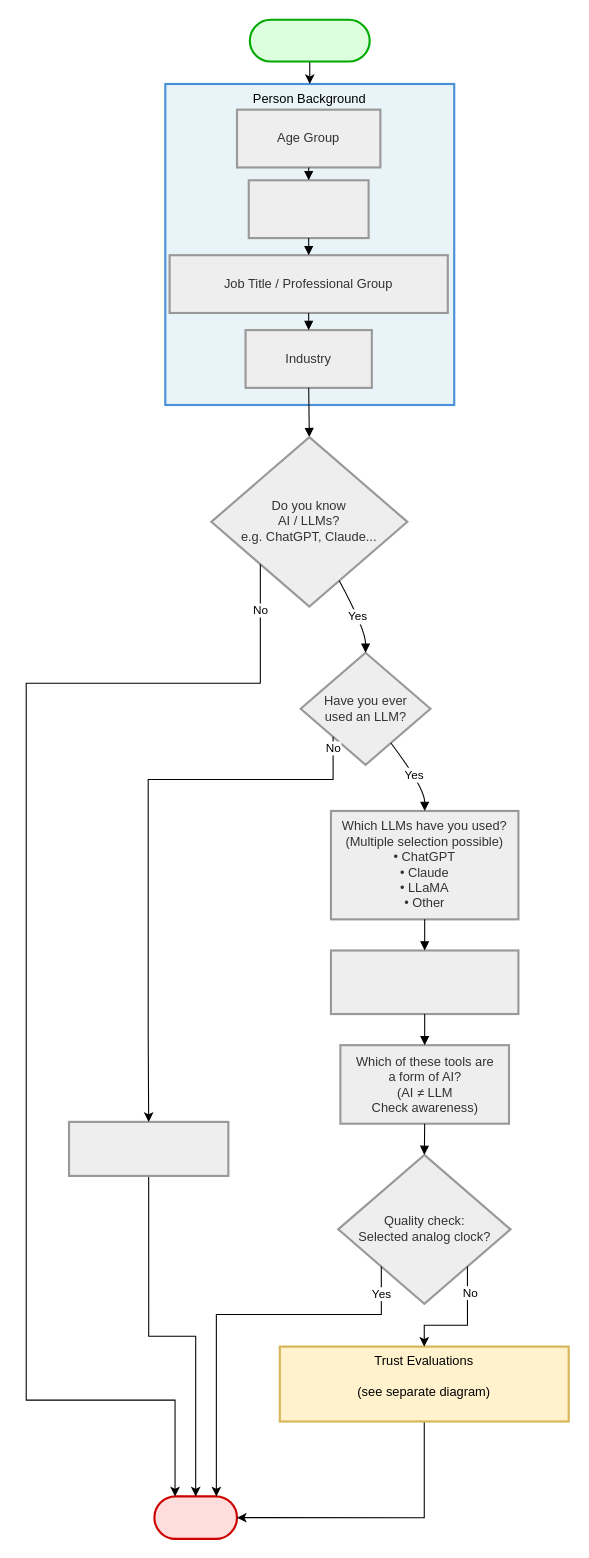
The diagram is 589 pixels wide and 1558 high, and some of its shapes have lost their labels. Here are the shapes that lost their labels. From the top down, the box of each, then its label:
(248, 18, 370, 62): Start Survey
(247, 179, 369, 239): Gender
(329, 949, 519, 1015): How would you rate your knowledge about LLMs? 1 = No idea, 5 = Expert
(67, 1120, 229, 1176): Why not? (Multiple Choice + Other)
(153, 1495, 238, 1539): End Survey
